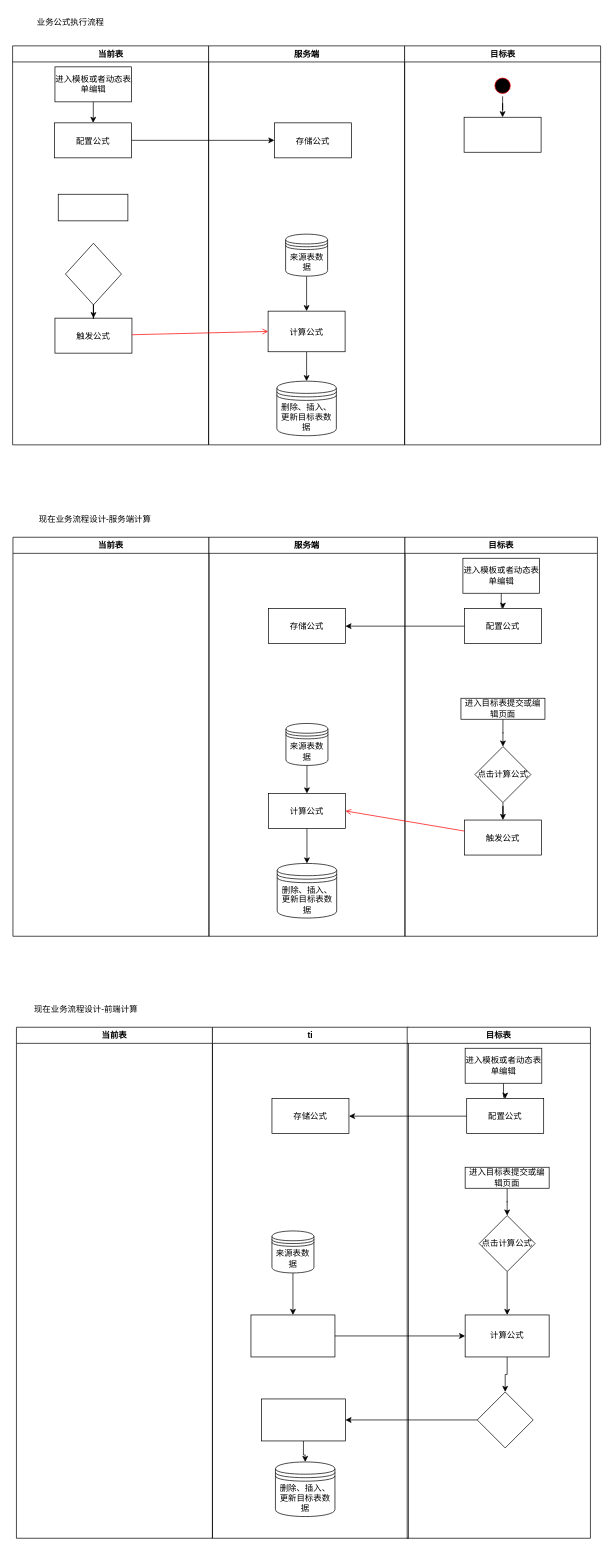
This 613x1551 diagram has some shape labels left out. Each missing label, with the centre of its shape:
提交: [504,1419]
提交数据接口: [303,1419]
来源表数据接口: [292,1335]
请求目标表: [502,134]
进入当前表单提交或者编辑页面: [93,207]
页面提交、编辑、删除: [93,274]
